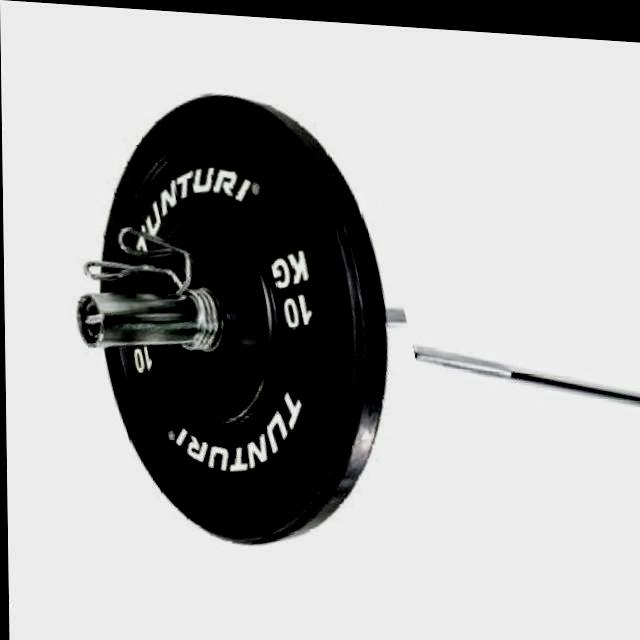barbell: (44, 59, 430, 580)
